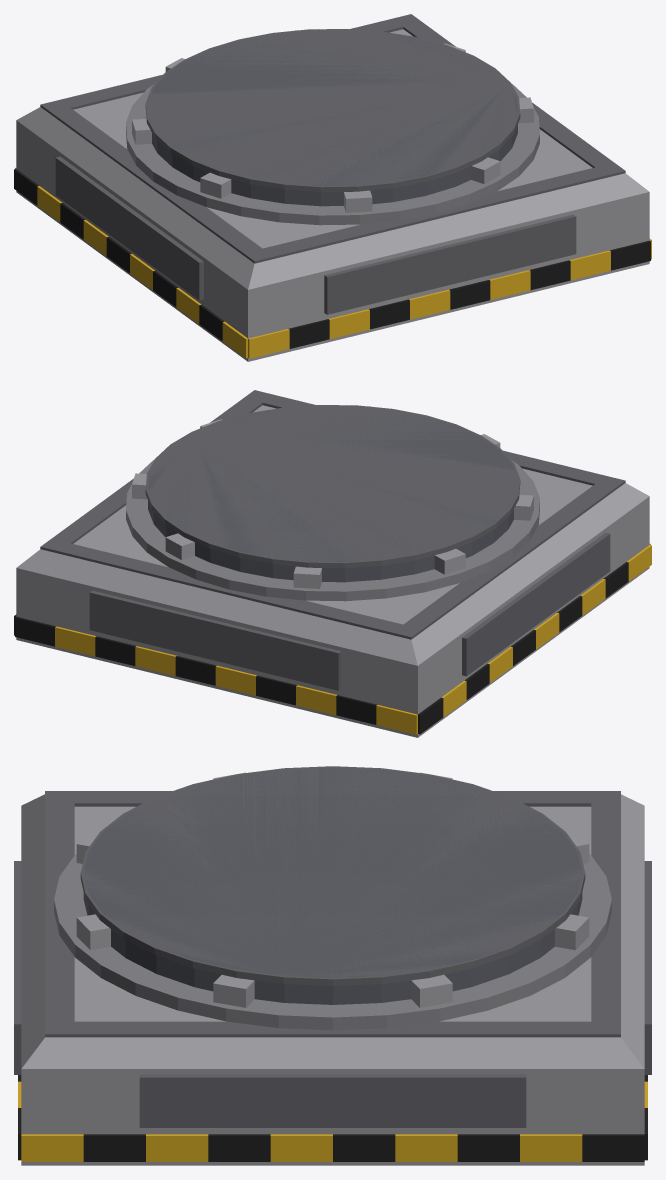
The model's file is vge_gun_pedestal_3x3.obj.
The picture shows the model from 3 angles, top to bottom: view 1: azimuth 30°, elevation 25°; view 2: azimuth 150°, elevation 25°; view 3: azimuth 270°, elevation 25°; orthographic projection. The views are drawn at different scales.
Parts seen in each view (by area): view 1: vge_gun_pedestal_3x3_52, vge_gun_pedestal_3x3_1, vge_gun_pedestal_3x3_51, vge_gun_pedestal_3x3_0, vge_gun_pedestal_3x3_5, vge_gun_pedestal_3x3_50, vge_gun_pedestal_3x3_3, vge_gun_pedestal_3x3_46, vge_gun_pedestal_3x3_48, vge_gun_pedestal_3x3_47, vge_gun_pedestal_3x3_49, vge_gun_pedestal_3x3_7 (+22 smaller); view 2: vge_gun_pedestal_3x3_52, vge_gun_pedestal_3x3_1, vge_gun_pedestal_3x3_51, vge_gun_pedestal_3x3_0, vge_gun_pedestal_3x3_4, vge_gun_pedestal_3x3_50, vge_gun_pedestal_3x3_3, vge_gun_pedestal_3x3_47, vge_gun_pedestal_3x3_48, vge_gun_pedestal_3x3_46, vge_gun_pedestal_3x3_49, vge_gun_pedestal_3x3_6 (+22 smaller); view 3: vge_gun_pedestal_3x3_51, vge_gun_pedestal_3x3_52, vge_gun_pedestal_3x3_1, vge_gun_pedestal_3x3_0, vge_gun_pedestal_3x3_2, vge_gun_pedestal_3x3_50, vge_gun_pedestal_3x3_49, vge_gun_pedestal_3x3_46, vge_gun_pedestal_3x3_47, vge_gun_pedestal_3x3_48, vge_gun_pedestal_3x3_8, vge_gun_pedestal_3x3_12 (+14 smaller).
Part boxes in pixels (<box>): vge_gun_pedestal_3x3_52: <box>145,29,520,192</box>; vge_gun_pedestal_3x3_1: <box>16,29,649,289</box>; vge_gun_pedestal_3x3_51: <box>151,30,517,206</box>; vge_gun_pedestal_3x3_0: <box>16,120,649,361</box>; vge_gun_pedestal_3x3_5: <box>324,214,576,314</box>; vge_gun_pedestal_3x3_50: <box>126,83,539,225</box>; vge_gun_pedestal_3x3_3: <box>55,156,203,300</box>; vge_gun_pedestal_3x3_46: <box>243,162,625,263</box>; vge_gun_pedestal_3x3_48: <box>51,108,262,255</box>; vge_gun_pedestal_3x3_47: <box>40,14,421,114</box>; vge_gun_pedestal_3x3_49: <box>403,22,613,167</box>; vge_gun_pedestal_3x3_7: <box>248,329,289,358</box>; vge_gun_pedestal_3x3_52: <box>145,405,520,568</box>; vge_gun_pedestal_3x3_1: <box>16,405,649,665</box>; vge_gun_pedestal_3x3_51: <box>148,406,516,582</box>; vge_gun_pedestal_3x3_0: <box>16,496,649,737</box>; vge_gun_pedestal_3x3_4: <box>89,590,341,690</box>; vge_gun_pedestal_3x3_50: <box>126,459,539,601</box>; vge_gun_pedestal_3x3_3: <box>462,532,610,676</box>; vge_gun_pedestal_3x3_47: <box>40,538,422,639</box>; vge_gun_pedestal_3x3_48: <box>403,484,614,631</box>; vge_gun_pedestal_3x3_46: <box>244,390,625,490</box>; vge_gun_pedestal_3x3_49: <box>52,398,262,543</box>; vge_gun_pedestal_3x3_6: <box>376,705,417,734</box>; vge_gun_pedestal_3x3_51: <box>83,767,582,1004</box>; vge_gun_pedestal_3x3_52: <box>80,766,585,985</box>; vge_gun_pedestal_3x3_1: <box>21,794,644,1068</box>; vge_gun_pedestal_3x3_0: <box>21,1069,644,1165</box>; vge_gun_pedestal_3x3_2: <box>139,1074,526,1127</box>; vge_gun_pedestal_3x3_50: <box>54,854,611,1030</box>; vge_gun_pedestal_3x3_49: <box>74,1021,591,1037</box>; vge_gun_pedestal_3x3_46: <box>45,791,74,1037</box>; vge_gun_pedestal_3x3_47: <box>591,791,620,1037</box>; vge_gun_pedestal_3x3_48: <box>74,791,591,806</box>; vge_gun_pedestal_3x3_8: <box>21,1134,83,1161</box>; vge_gun_pedestal_3x3_12: <box>83,1134,145,1161</box>.
Bounding box in the file's own units: 2.15 × 0.6 × 2.15.
